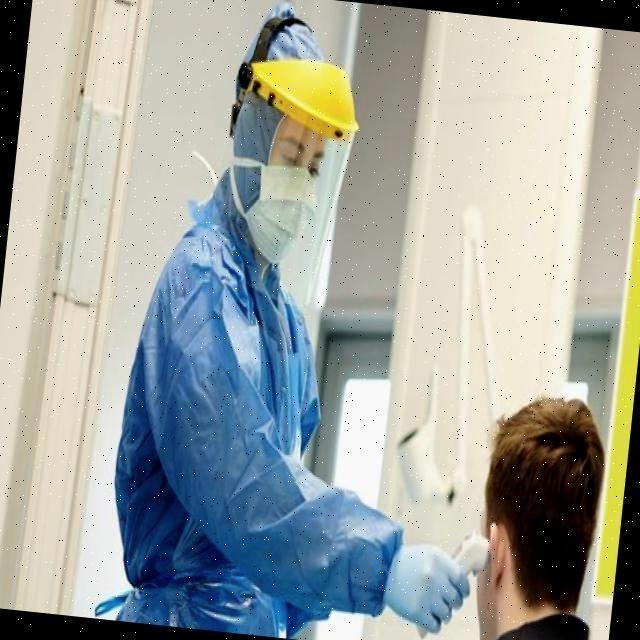apron: (390, 539, 468, 628)
